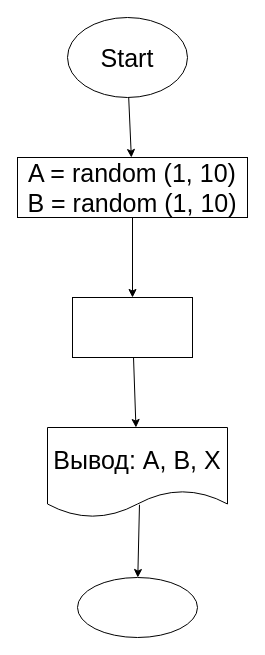
Some shapes in this 265 by 655 pixel diagram are drawn without their labels. The shapes that lost their labels are listed below. From the top down, each one's centre as x and y in pixels, then its label:
point (132, 327): X = A^B
point (137, 607): End
